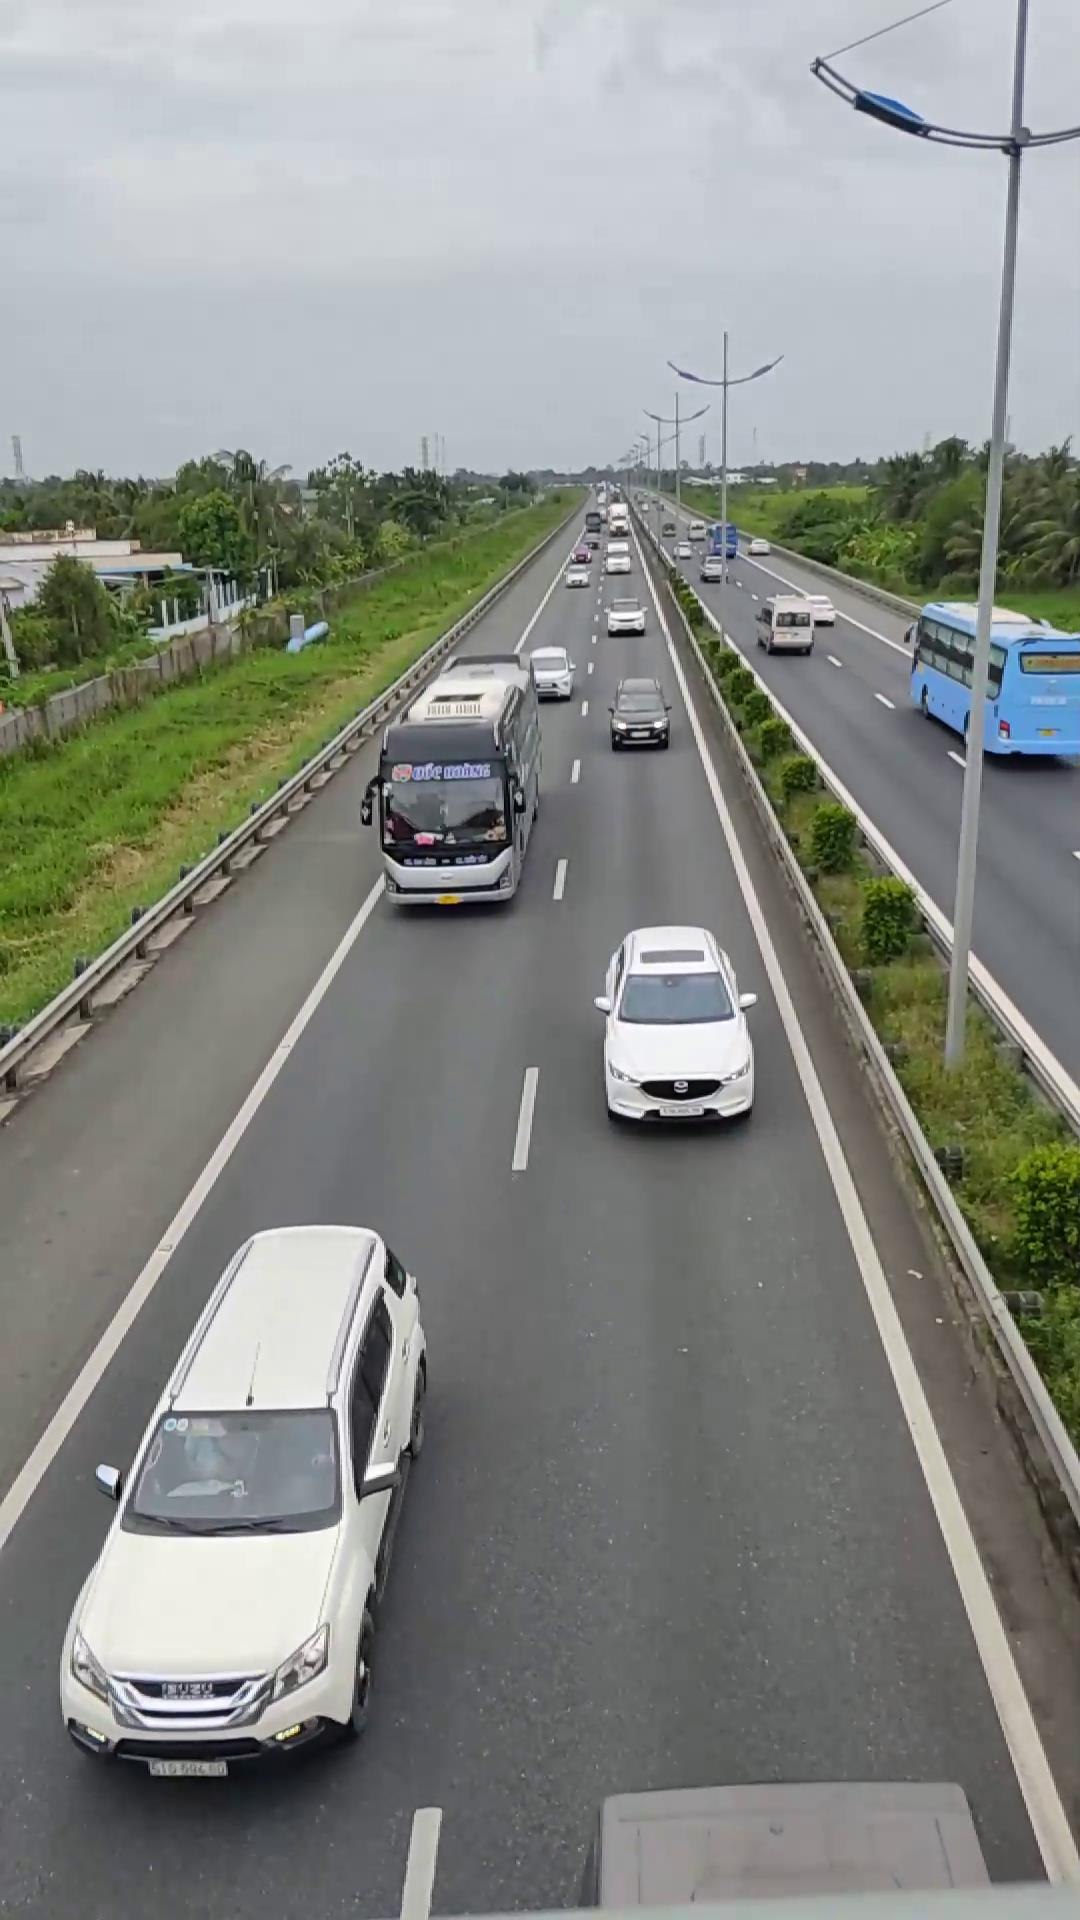bus: (371, 640, 542, 910)
car: (53, 1217, 433, 1776), (592, 924, 757, 1128), (606, 677, 673, 748)
